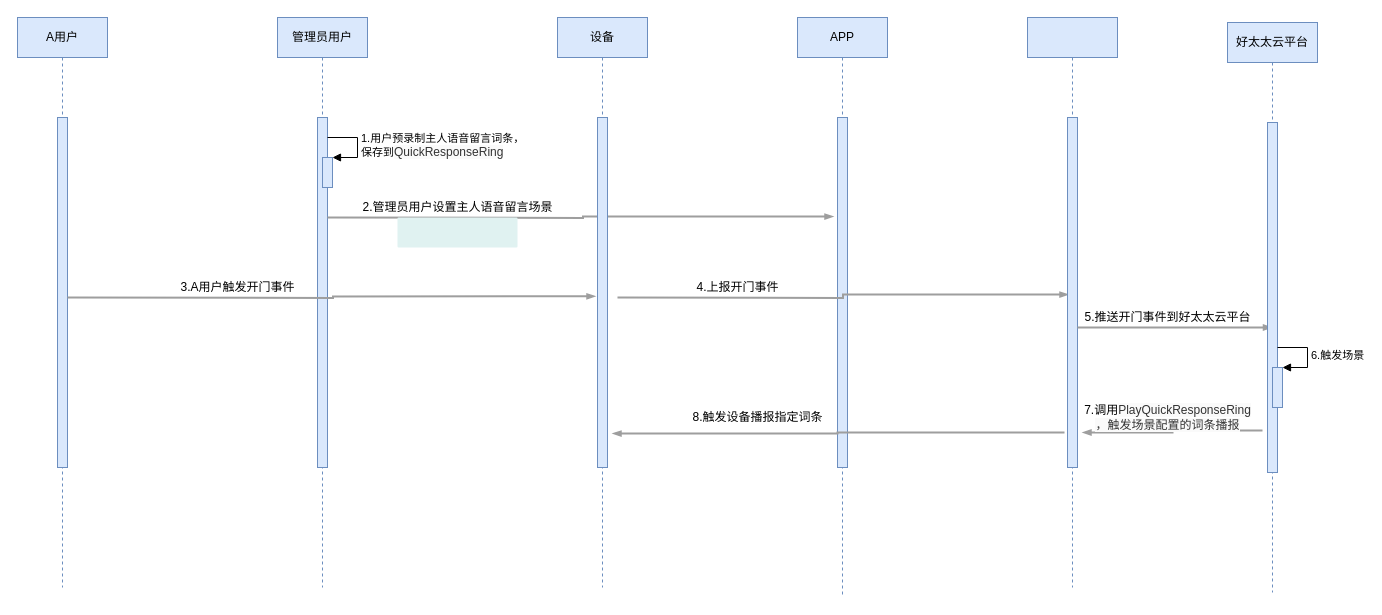
This 1382x615 diagram has some shape labels left out. The shapes that lost their labels are listed below. From the top down, each one's box as (x1, y1, x2, y2) in pixels, then its label:
(397, 217, 517, 247): 指定A用户开门触发
(1026, 16, 1118, 588): 飞燕IOT
